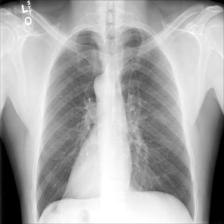normal: (30, 23, 199, 220)
